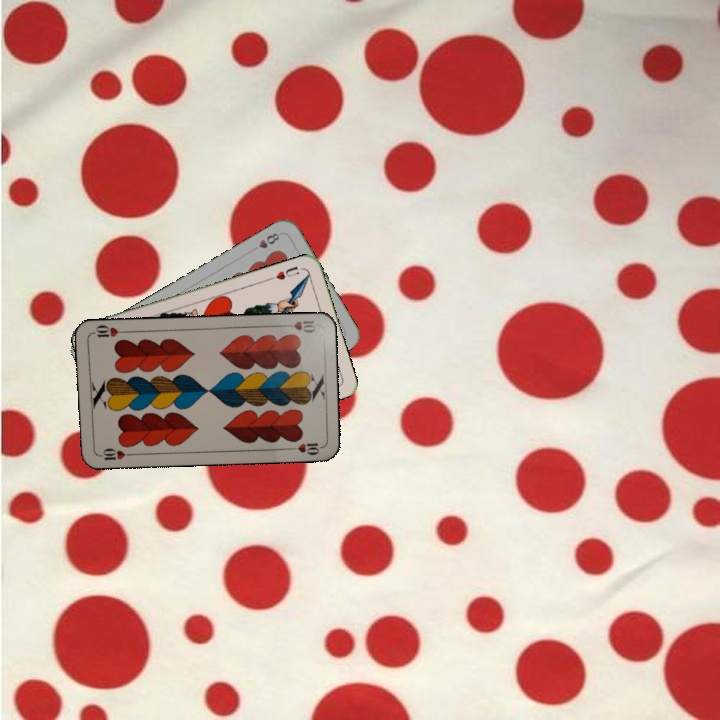H10: (279, 316, 318, 336), (94, 444, 135, 463)
H8: (254, 229, 282, 251)
HU: (272, 262, 302, 282)
